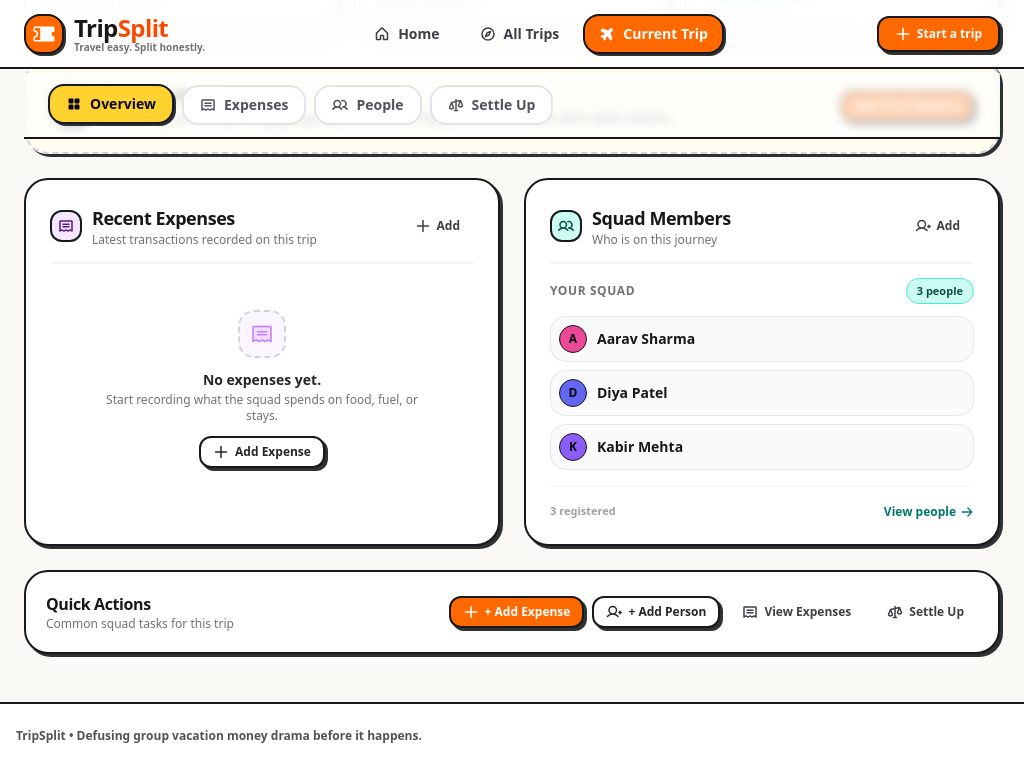
Trip Dashboard & Financial Integration Tests (Step 7) › 11. clicking "+ Add Expense" opens the real Add Expense modal
(page scrolled)
Click the button "+ Add Expense". click: (517, 612)
box: [449,596,584,628]
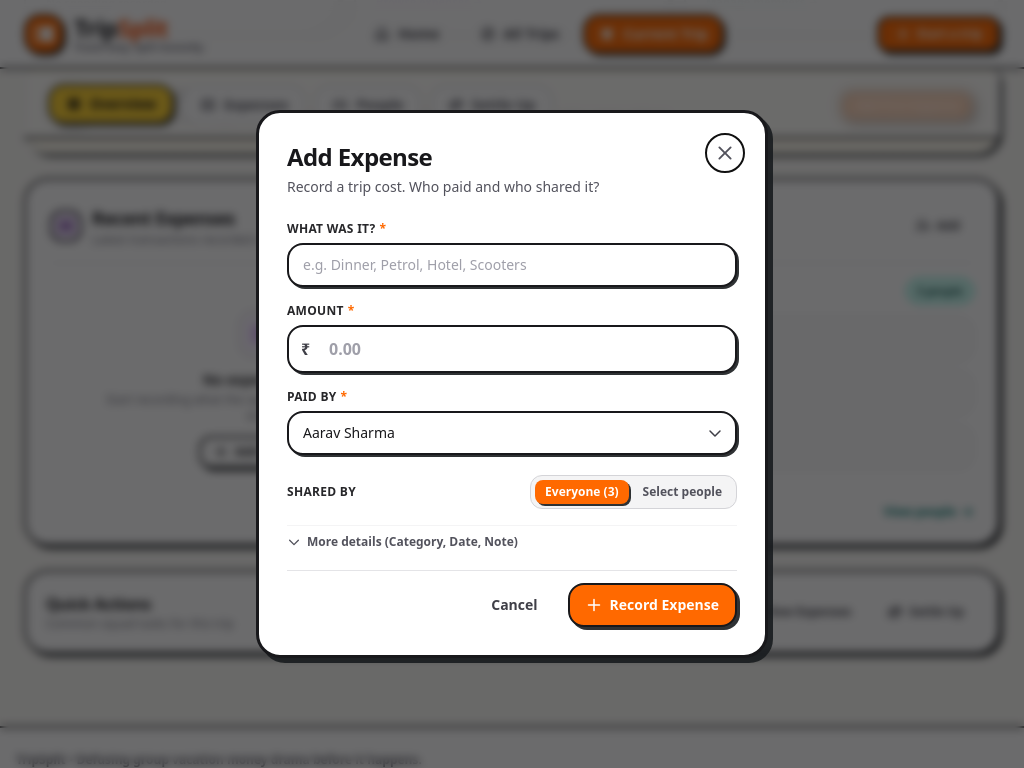
Check: the heading "Add Expense" is shown, box [287,140,432,173]
Check: the field labelled "What was it? *" is shown, box [287,243,737,287]
Check: the number field labelled "Amount *" is shown, box [287,325,737,373]
